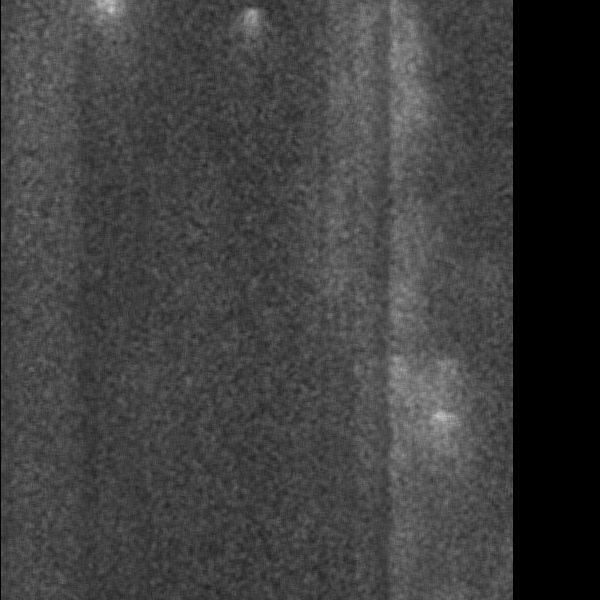spark: (319, 176, 351, 431), (417, 394, 475, 453), (238, 2, 266, 83), (391, 526, 428, 549)
